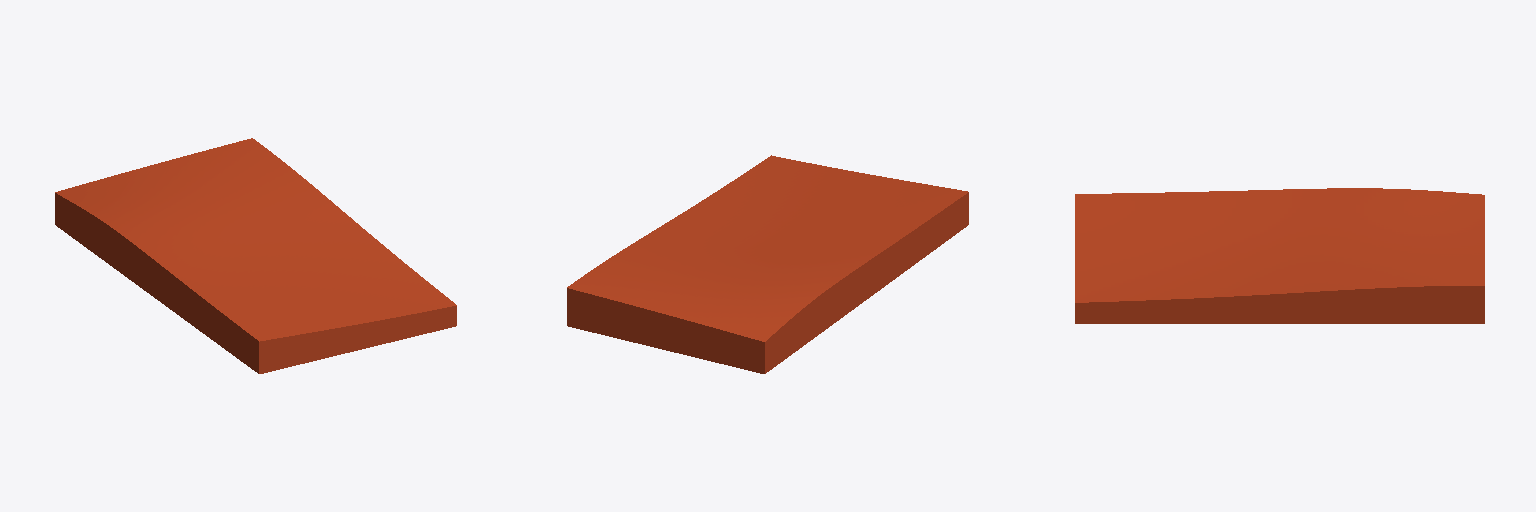
File: sand.obj
3 views of the same model, side by side, from view 1: azimuth 30°, elevation 25°; view 2: azimuth 150°, elevation 25°; view 3: azimuth 270°, elevation 25° (orthographic).
Visible parts, largest first — view 1: IfcGeotechnicalStratum/S; view 2: IfcGeotechnicalStratum/S; view 3: IfcGeotechnicalStratum/S.
Part boxes in pixels (bbox=[...]): IfcGeotechnicalStratum/S: bbox=[55, 138, 456, 373]; IfcGeotechnicalStratum/S: bbox=[567, 155, 968, 373]; IfcGeotechnicalStratum/S: bbox=[1075, 188, 1484, 323].
Bounding box in the file's own units: 57 × 10.67 × 102.